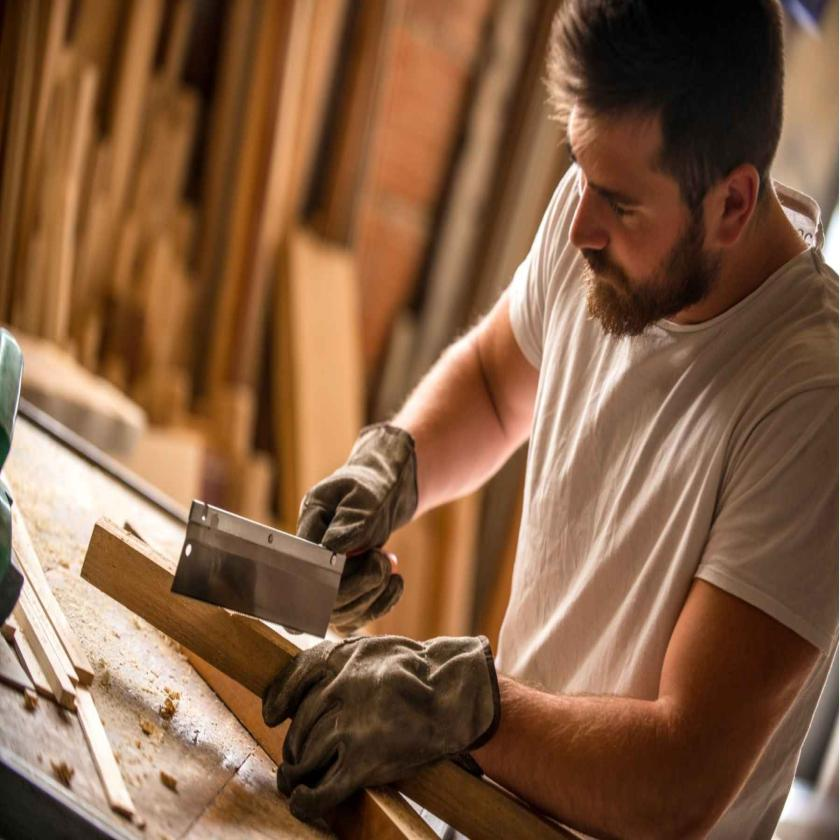Sin_casco: (528, 0, 798, 344)
